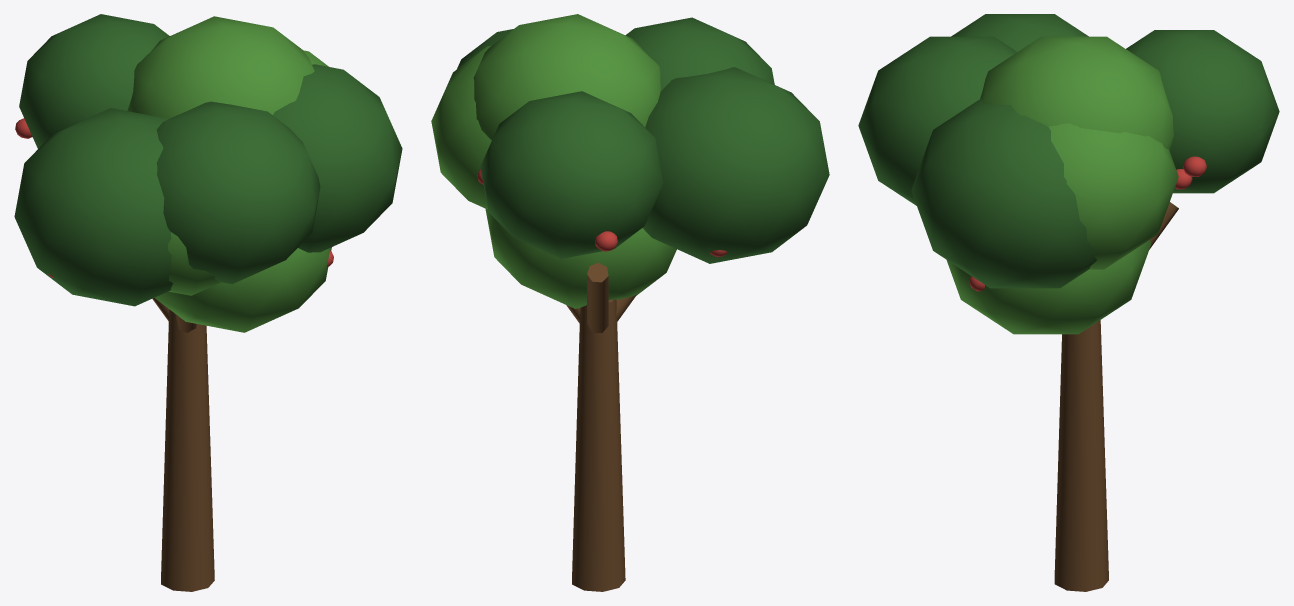
Rendered from arbre_prairie_3.glb.
3 renders of one model, left to right at view 1: azimuth 30°, elevation 25°; view 2: azimuth 150°, elevation 25°; view 3: azimuth 270°, elevation 25°, orthographic.
Visible parts, largest first — view 1: feuillage_feuille_sombre.012, feuillage_feuille.012, tronc.012; view 2: feuillage_feuille_sombre.012, feuillage_feuille.012, tronc.012, branches_ecorce.006, fruits_rouge.002; view 3: feuillage_feuille_sombre.012, feuillage_feuille.012, tronc.012, fruits_rouge.002.
Part boxes in pixels (box(x1,y1,x2,y2)): feuillage_feuille_sombre.012: box(14, 14, 402, 306); feuillage_feuille.012: box(127, 16, 331, 332); tronc.012: box(161, 309, 214, 591); feuillage_feuille_sombre.012: box(457, 17, 829, 263); feuillage_feuille.012: box(431, 14, 676, 308); tronc.012: box(572, 299, 625, 591); branches_ecorce.006: box(566, 262, 636, 333); fruits_rouge.002: box(477, 169, 727, 257); feuillage_feuille_sombre.012: box(858, 14, 1279, 288); feuillage_feuille.012: box(946, 36, 1178, 334); tronc.012: box(1054, 320, 1108, 591); fruits_rouge.002: box(969, 156, 1206, 291).
Size of the model in its own units: 2.22 by 3.27 by 2.25.
